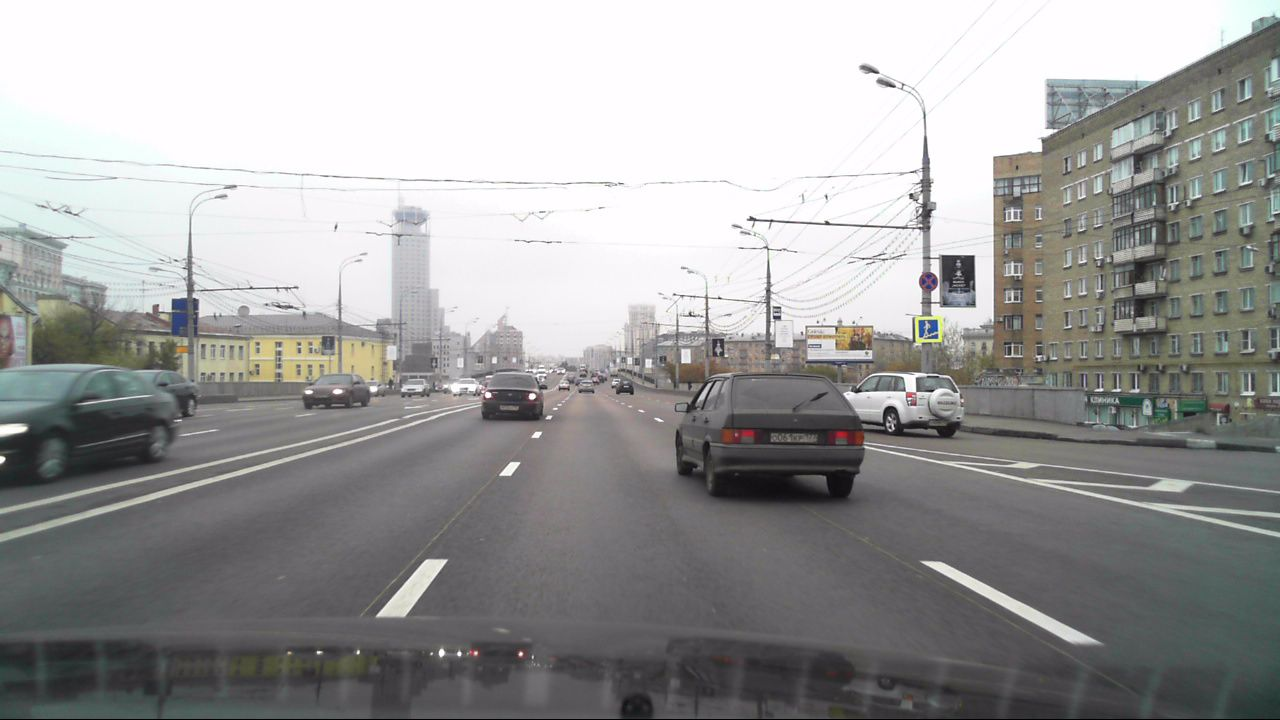No Parking: (918, 271, 937, 292)
